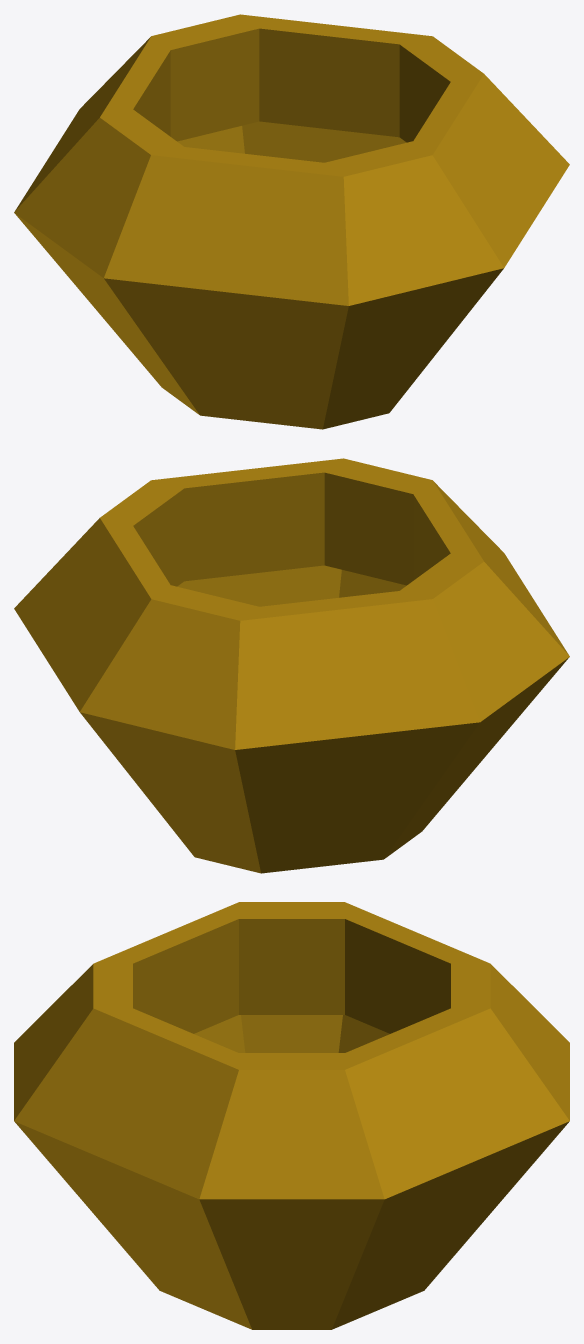
The model's file is inv_odd_gnomebowl.obj.
3 views of the same model, one above another, from view 1: azimuth 30°, elevation 25°; view 2: azimuth 150°, elevation 25°; view 3: azimuth 270°, elevation 25° (orthographic). The views are drawn at different scales.
Size of the model in its own units: 0.3281 by 0.1875 by 0.3281.
